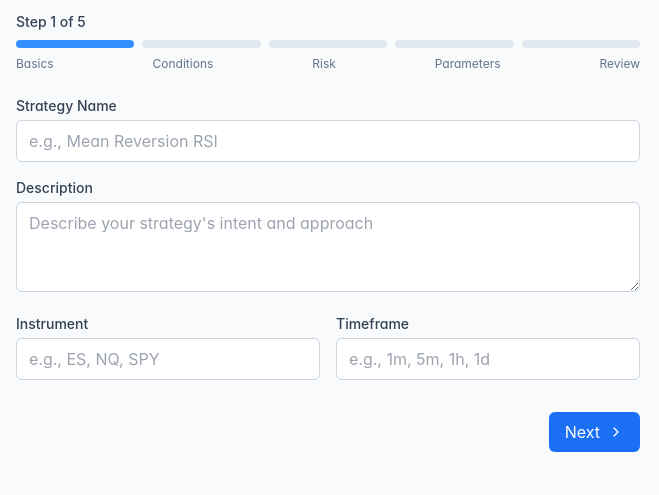
Test: StrategyDraftForm › field validation › validates required fields before advancing (name is required on basics step)
The image size is (659, 495).
# Try to click next without filling name
Click the button "Next": (594, 432) [549,412,640,452]
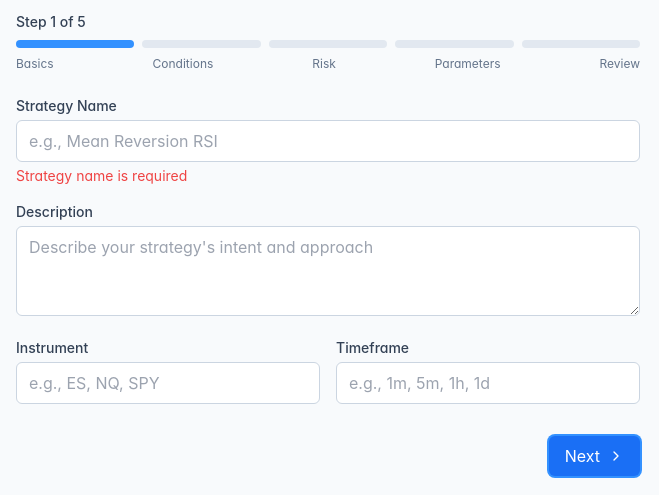
Expected: the field labelled "Strategy Name" is shown, [16,120,640,162]
Expected: the text "Strategy name is required" is shown, [16,167,187,184]
